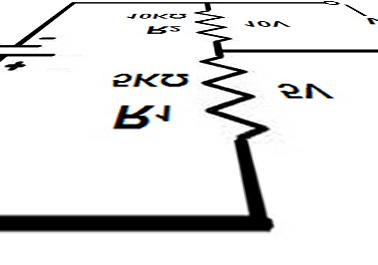resistor: (199, 53, 267, 153), (193, 4, 235, 41)
